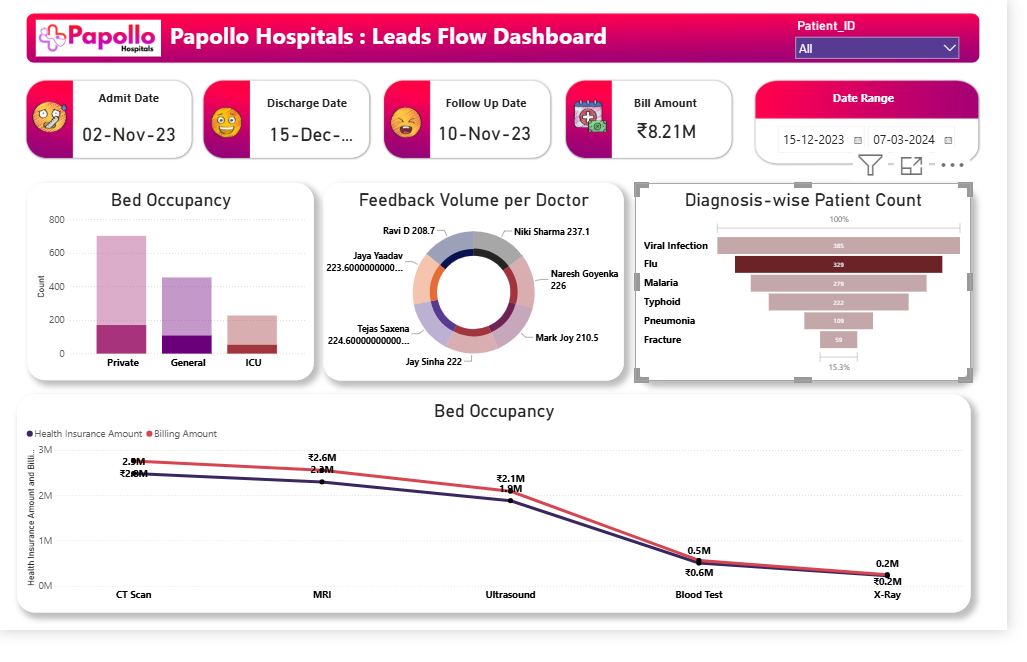

The dashboard page shown, as its layout file describes it:
{"tool":"powerbi","page":{"name":"dashboard","canvas":[1680,1050],"ordinal":0},"visuals":[{"type":"textbox","box":[280,27.1,755.7,74.3],"z":0},{"type":"image","box":[2636.7,100,623.3,150],"z":1000},{"type":"slicer","fields":{"Values":["Sheet1.Patient_ID"]},"box":[2400,373.3,793.3,420],"z":2000},{"type":"card","fields":{"Values":["Min(Sheet1.Admit_Date)"]},"box":[437.6,198.8,162.9,42.8],"z":3000},{"type":"card","fields":{"Values":["Min(Sheet1.Discharge_Date)"]},"box":[129.8,198.8,172.6,42.8],"z":4000},{"type":"card","fields":{"Values":["Min(Sheet1.Followup Date)"]},"box":[724.3,198.6,167.1,42.9],"z":5000},{"type":"textbox","box":[152.9,145.7,127.1,57.1],"z":6000},{"type":"textbox","box":[437.1,151.4,151.4,37.1],"z":7000},{"type":"textbox","box":[732.9,151.4,158.6,37.1],"z":8000},{"type":"textbox","box":[1035.7,151.4,151.4,37.1],"z":9000},{"type":"card","fields":{"Values":["Sum(Sheet1.Billing Amount)"]},"box":[1031.4,194.3,158.6,42.9],"z":10000},{"type":"image","box":[50,157.1,68.6,74.3],"z":11000},{"type":"image","box":[348.6,172.9,62.9,62.9],"z":12000},{"type":"image","box":[640,171.4,77.1,62.9],"z":13000},{"type":"image","box":[951.4,158.6,65.7,71.4],"z":14000},{"type":"columnChart","title":"Bed Occupancy","fields":{"Category":["Sheet1.Bed_Occupancy"],"Y":["CountNonNull(Sheet1.Bed_Occupancy)"]},"box":[47.1,305.7,477.1,328.6],"z":15000},{"type":"donutChart","title":"Feedback Volume per Doctor","fields":{"Category":["Sheet1.Doctor"],"Y":["Sum(Sheet1.Feedback)"]},"box":[540.2,305.2,501,329.5],"z":16000},{"type":"funnel","title":"Diagnosis-wise Patient Count","fields":{"Category":["Sheet1.Diagnosis"],"Y":["CountNonNull(Sheet1.Diagnosis)"]},"box":[1060,305.7,560,330],"z":17000},{"type":"image","box":[30.2,27.8,271.4,71.9],"z":18000},{"type":"lineChart","title":"Bed Occupancy","fields":{"Y":["Sum(Sheet1.Health Insurance Amount)","Sum(Sheet1.Billing Amount)"],"Category":["Sheet1.Test"]},"box":[31.1,656.3,1589.5,363.3],"z":19000},{"type":"slicer","fields":{"Values":["Sheet1.Admit_Date"]},"box":[1284.3,201.2,360.6,68.9],"z":20000},{"type":"slicer","fields":{"Values":["Sheet1.Patient_ID"]},"box":[1317.1,24.3,292.9,82.9],"z":21000},{"type":"textbox","box":[1365.7,145.7,151.4,37.1],"z":22000}]}

Visuals, with their boxes in screenshot pixels (x1, y1, x2, y2):
textbox: {"x1": 166, "y1": 14, "x2": 622, "y2": 58}
card - Min(Sheet1.Admit_Date): {"x1": 261, "y1": 117, "x2": 359, "y2": 143}
card - Min(Sheet1.Discharge_Date): {"x1": 76, "y1": 117, "x2": 180, "y2": 143}
card - Min(Sheet1.Followup Date): {"x1": 434, "y1": 117, "x2": 535, "y2": 143}
textbox: {"x1": 90, "y1": 85, "x2": 166, "y2": 120}
textbox: {"x1": 261, "y1": 89, "x2": 352, "y2": 111}
textbox: {"x1": 439, "y1": 89, "x2": 535, "y2": 111}
textbox: {"x1": 622, "y1": 89, "x2": 713, "y2": 111}
card - Sum(Sheet1.Billing Amount): {"x1": 619, "y1": 114, "x2": 715, "y2": 140}
image: {"x1": 27, "y1": 92, "x2": 69, "y2": 137}
image: {"x1": 207, "y1": 102, "x2": 245, "y2": 139}
image: {"x1": 383, "y1": 101, "x2": 430, "y2": 139}
image: {"x1": 571, "y1": 93, "x2": 610, "y2": 136}
"Bed Occupancy" columnChart: {"x1": 26, "y1": 182, "x2": 313, "y2": 380}
"Feedback Volume per Doctor" donutChart: {"x1": 323, "y1": 181, "x2": 625, "y2": 380}
"Diagnosis-wise Patient Count" funnel: {"x1": 636, "y1": 182, "x2": 974, "y2": 381}
image: {"x1": 16, "y1": 14, "x2": 179, "y2": 57}
"Bed Occupancy" lineChart: {"x1": 16, "y1": 393, "x2": 974, "y2": 612}
slicer - Sheet1.Admit_Date: {"x1": 772, "y1": 119, "x2": 989, "y2": 160}
slicer - Sheet1.Patient_ID: {"x1": 791, "y1": 12, "x2": 968, "y2": 62}
textbox: {"x1": 821, "y1": 85, "x2": 912, "y2": 108}
